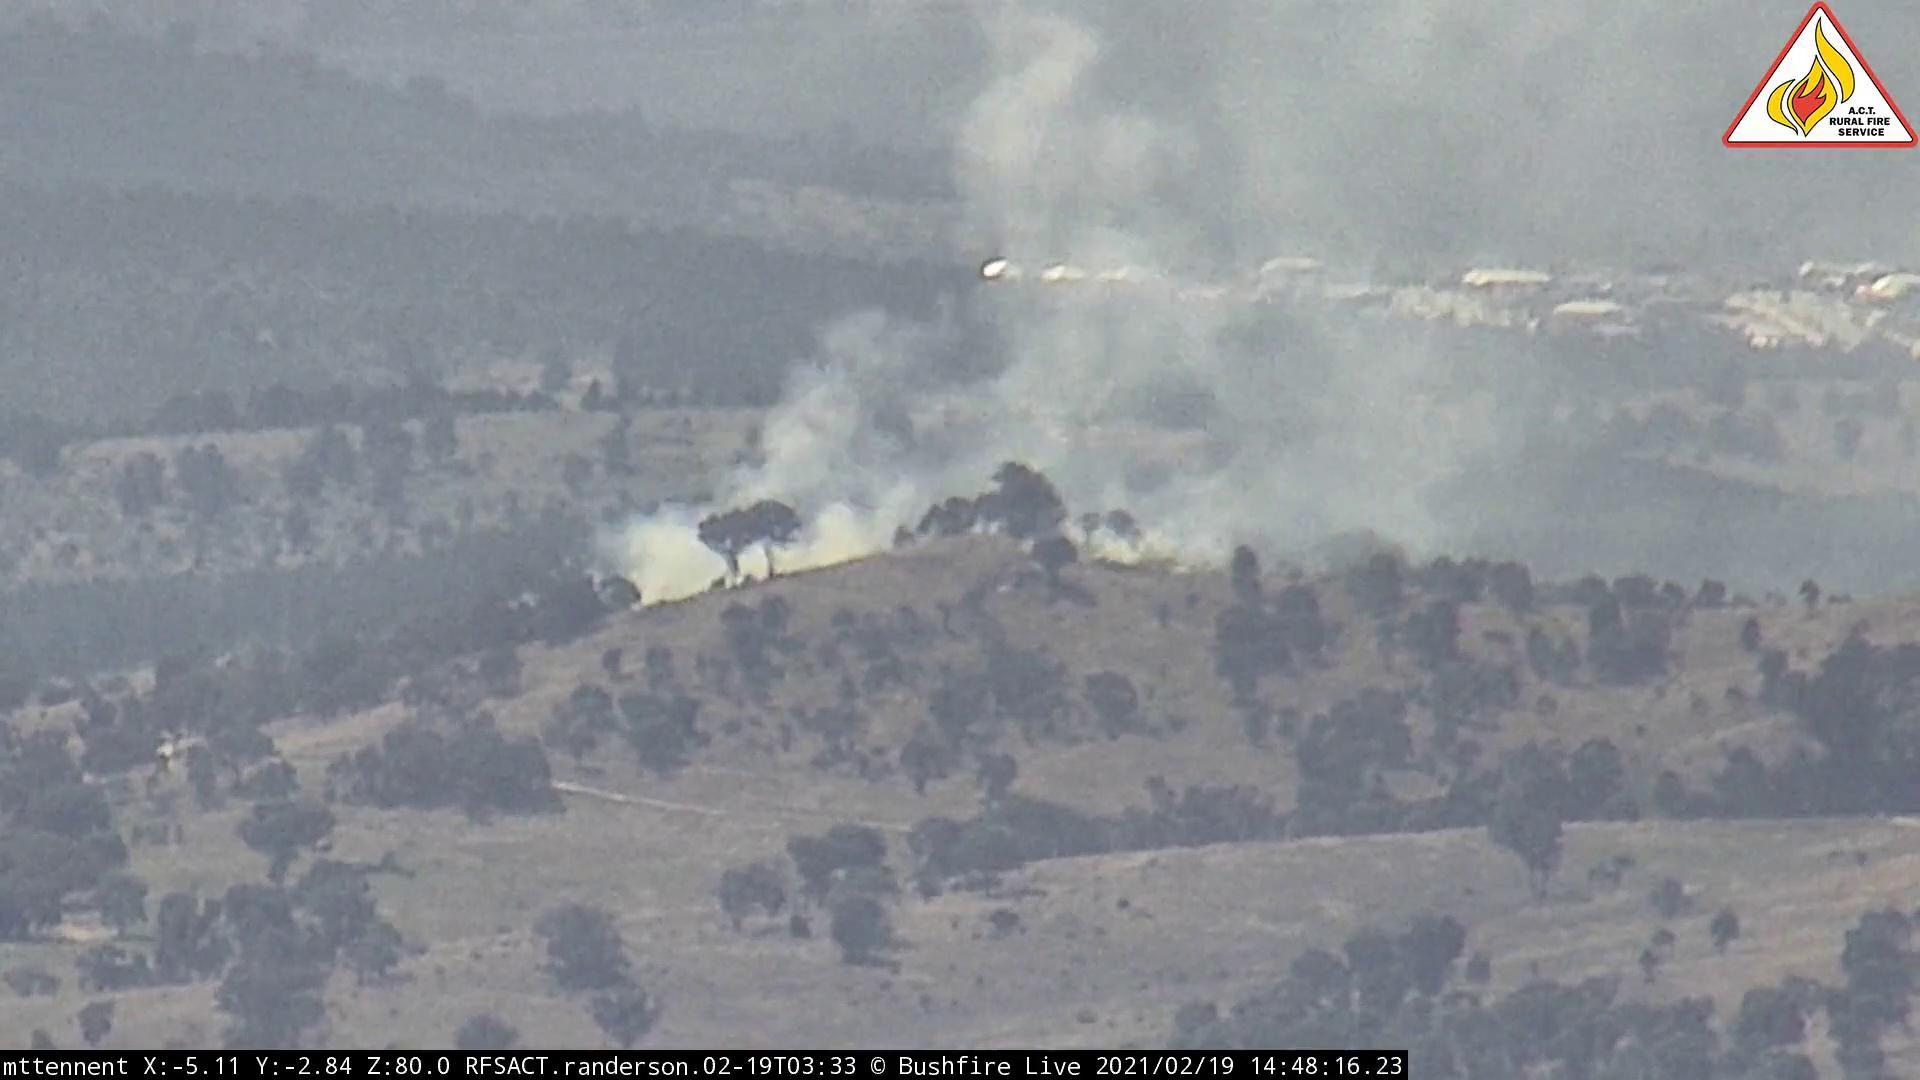Smoke: (578, 3, 1712, 658)
